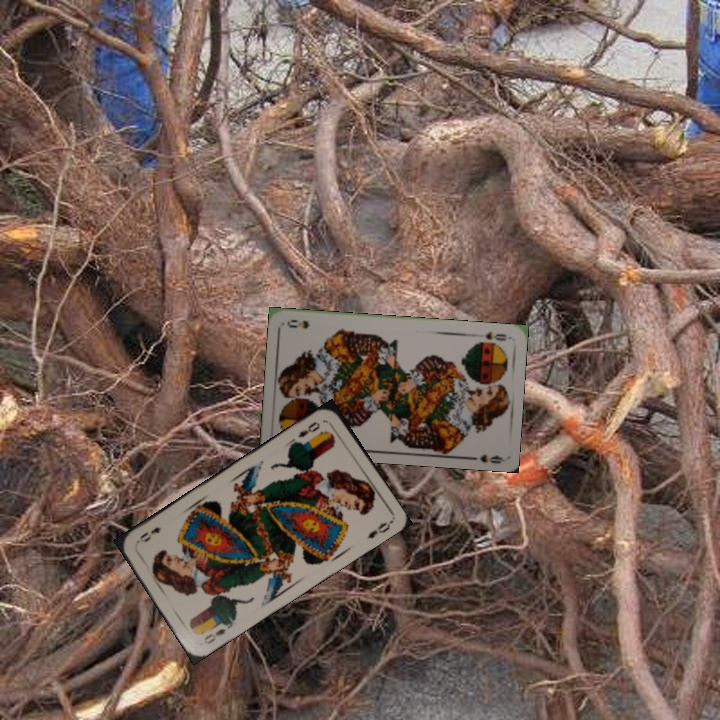EO: (200, 618, 234, 647), (294, 417, 323, 440)
SO: (481, 327, 508, 343)
